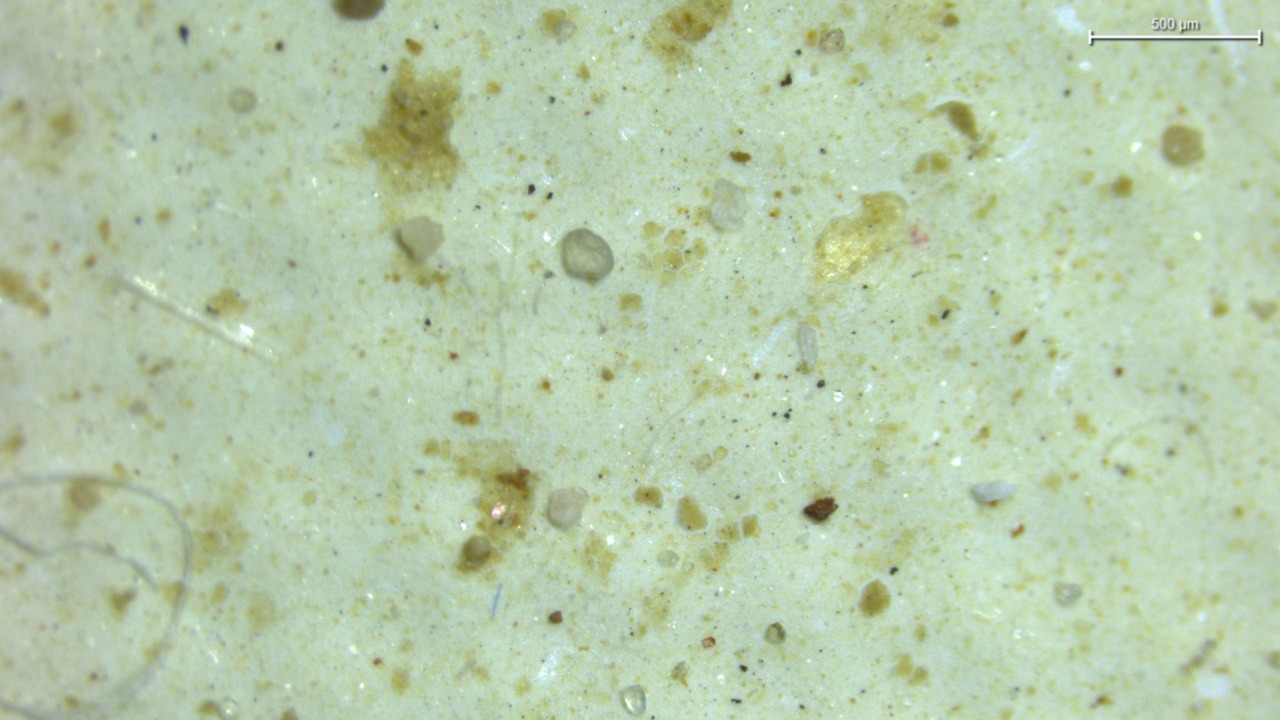microplastic_fragment: (561, 228, 614, 283), (394, 217, 443, 263), (710, 178, 747, 230), (547, 488, 588, 528), (971, 480, 1017, 503)
